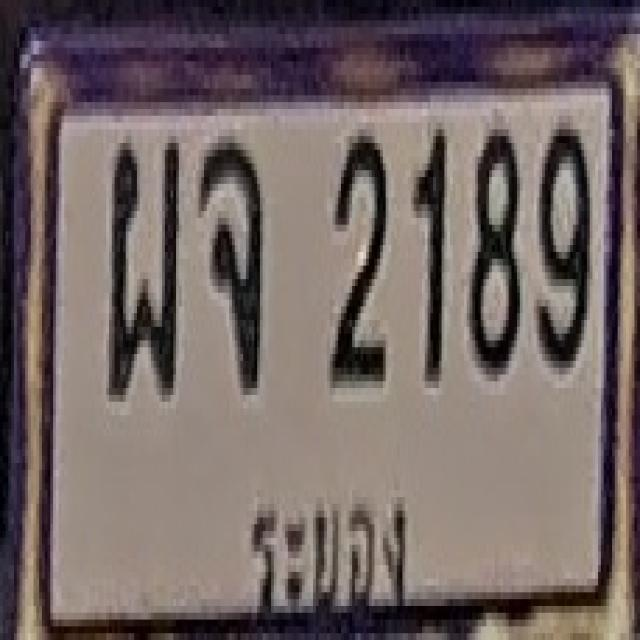1: (412, 126, 446, 378)
2: (330, 129, 388, 388)
8: (466, 125, 522, 380)
9: (536, 119, 590, 364)
A08: (198, 136, 266, 397)
A28: (106, 133, 180, 406)
RYG: (248, 468, 410, 622)
